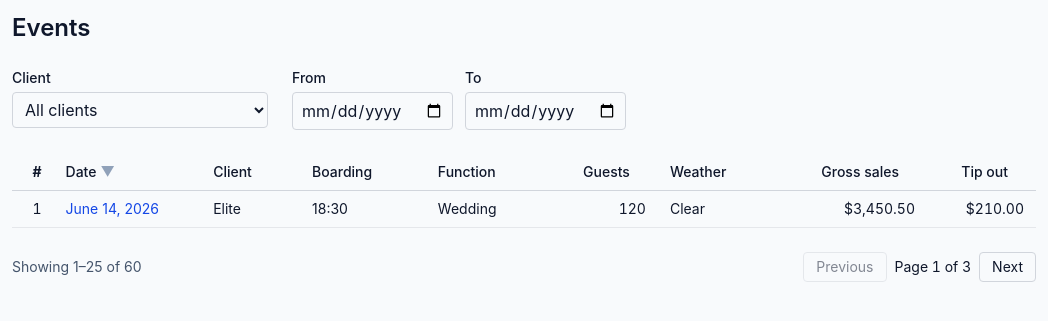
Test: EventsPage events table › goes to the next page and fetches it
The image size is (1048, 321).
Expected: the text "Page 1 of 3" is shown, [894,257,971,277]
Click the button "Next".
click(1008, 267)  # box [979,252,1036,282]
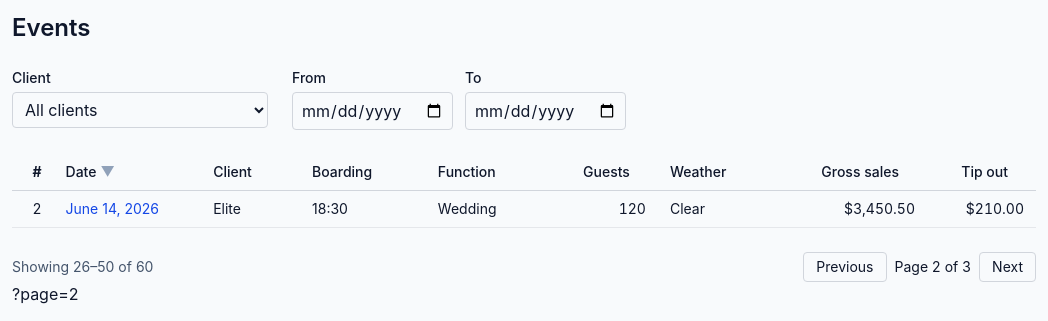
Expected: the text "Page 2 of 3" is shown, [894,257,971,277]
